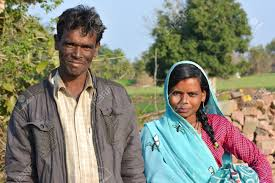men: (48, 4, 110, 78)
women: (159, 55, 218, 135)
